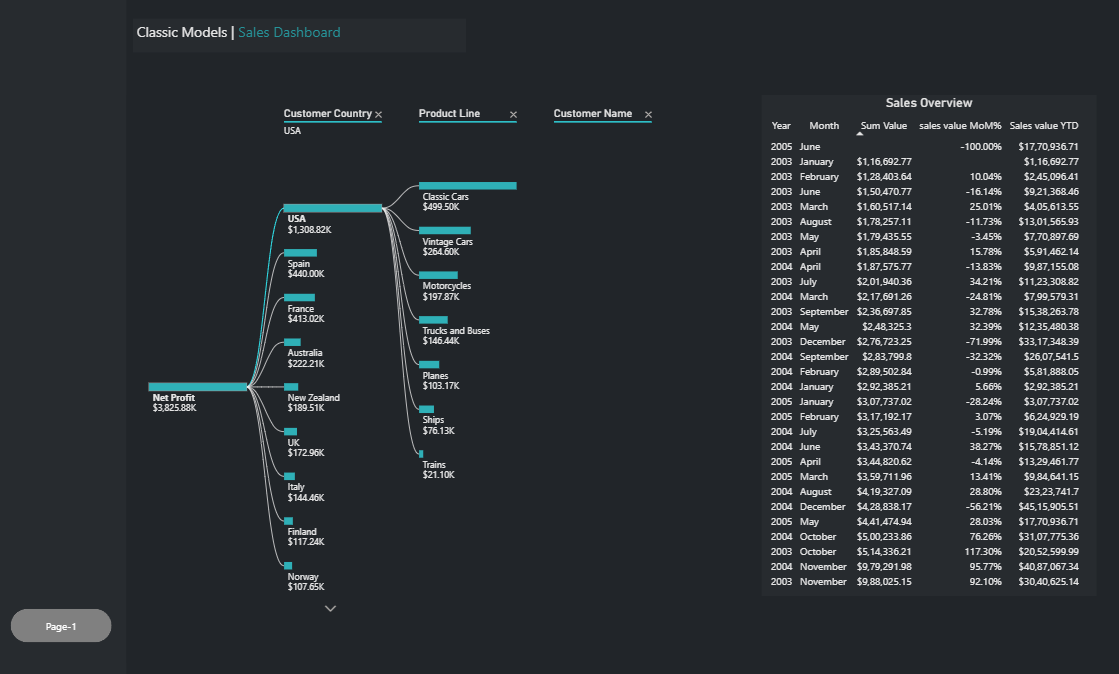

The page's visual inventory and layout, read from the dashboard file:
{"tool":"powerbi","page":{"name":"Sales OverView-Page-2","canvas":[1500,900],"ordinal":1},"visuals":[{"type":"shape","box":[0,0,171,900.5],"z":0},{"type":"decompositionTreeVisual","fields":{"Analyze":["classicmodels sales_data_for_power_bi.Net Profit"],"ExplainBy":["classicmodels sales_data_for_power_bi.customer_country","classicmodels sales_data_for_power_bi.productLine","classicmodels sales_data_for_power_bi.customerName"]},"box":[171.7,126.7,766.7,756.7],"z":1000},{"type":"textbox","box":[180,25,443.8,45],"z":2000},{"type":"tableEx","fields":{"Values":["classicmodels sales_data_for_power_bi.orderDate.Variation.Date Hierarchy.Year","classicmodels sales_data_for_power_bi.orderDate.Variation.Date Hierarchy.Month","Sum(classicmodels sales_data_for_power_bi.sales_value)","classicmodels sales_data_for_power_bi.Sum of sales_value MoM%","classicmodels sales_data_for_power_bi.Sum of sales_value YTD"]},"box":[1018.3,126.7,455,656.7],"z":3000}]}

Visuals, with their boxes on the page's 1500x900 design canvas (x1, y1, x2, y2). These are canvas units, not pixel positions in the 1119x674 screenshot, which may show the page scaled, cropped or inside an application window:
shape: [left=0, top=0, right=171, bottom=900]
decompositionTreeVisual - classicmodels sales_data_for_power_bi.Net Profit x classicmodels sales_data_for_power_bi.customer_country: [left=172, top=127, right=938, bottom=883]
textbox: [left=180, top=25, right=624, bottom=70]
tableEx - classicmodels sales_data_for_power_bi.orderDate.Variation.Date Hierarchy.Year x classicmodels sales_data_for_power_bi.orderDate.Variation.Date Hierarchy.Month: [left=1018, top=127, right=1473, bottom=783]
